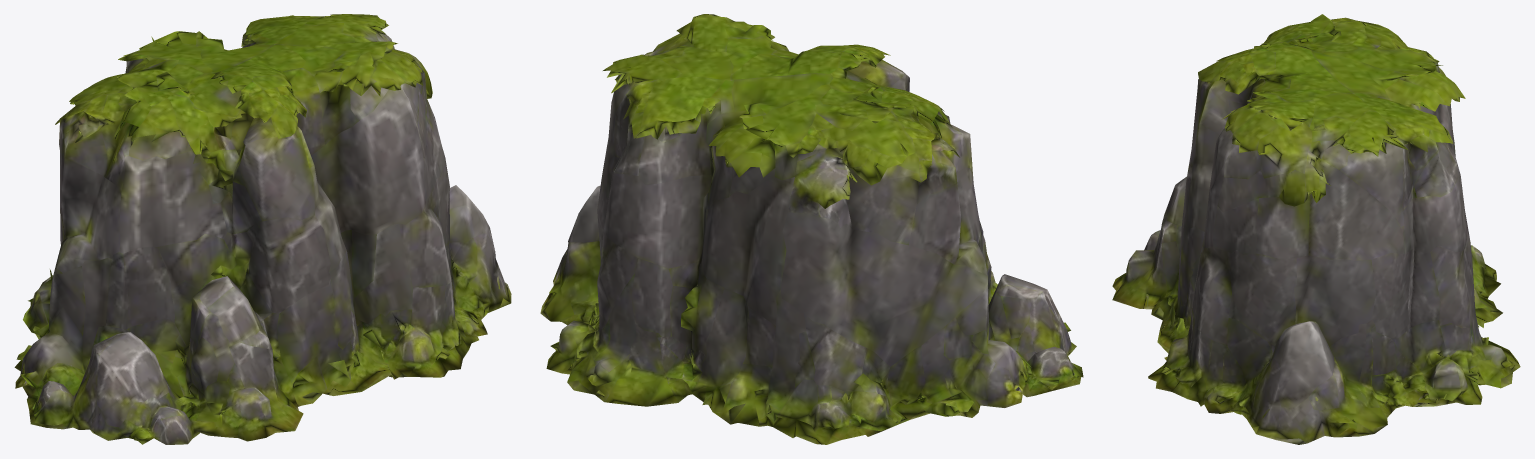
The model's file is plateau_moss.glb.
3 views of the same model, side by side, from view 1: azimuth 30°, elevation 25°; view 2: azimuth 150°, elevation 25°; view 3: azimuth 270°, elevation 25° (orthographic). The views are drawn at different scales.
Size of the model in its own units: 1.9 by 1.03 by 1.41.
Materials: 1 (1 with a texture image).
